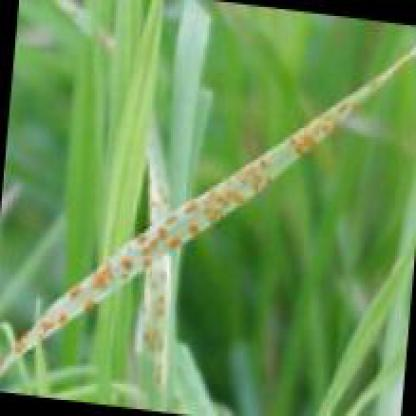Wheat Brown-rust: (183, 205, 200, 234), (158, 226, 179, 246), (140, 236, 154, 264), (203, 197, 220, 219), (240, 172, 265, 185), (294, 135, 309, 155), (119, 256, 135, 274), (222, 188, 241, 202), (93, 275, 110, 290), (39, 320, 51, 334), (83, 300, 92, 310), (71, 291, 82, 299), (58, 312, 65, 322)
